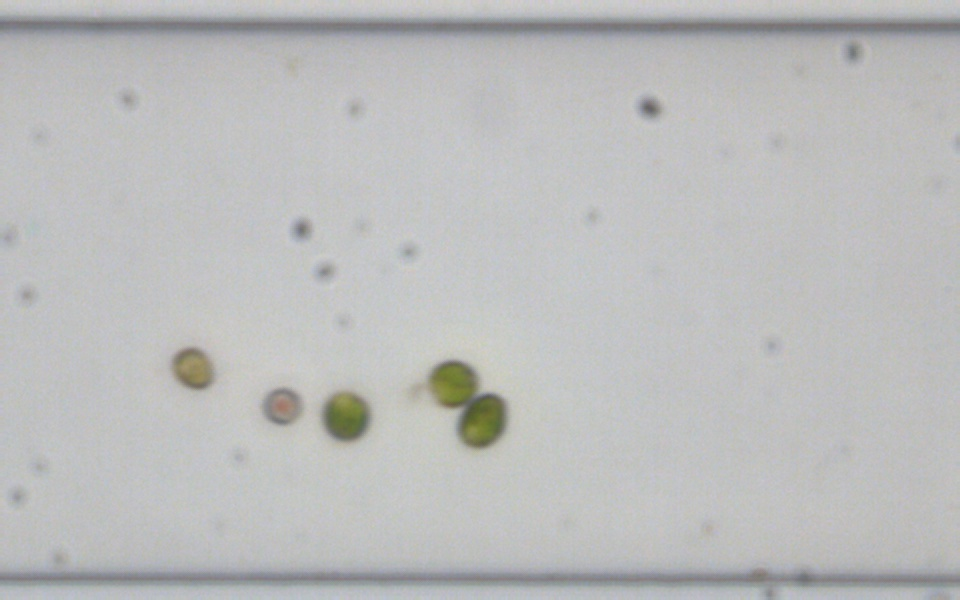Effrenium: (168, 343, 215, 390)
Platymonas: (455, 389, 508, 448), (425, 356, 480, 410), (320, 388, 370, 443)
Porphyridium: (259, 385, 304, 425)
